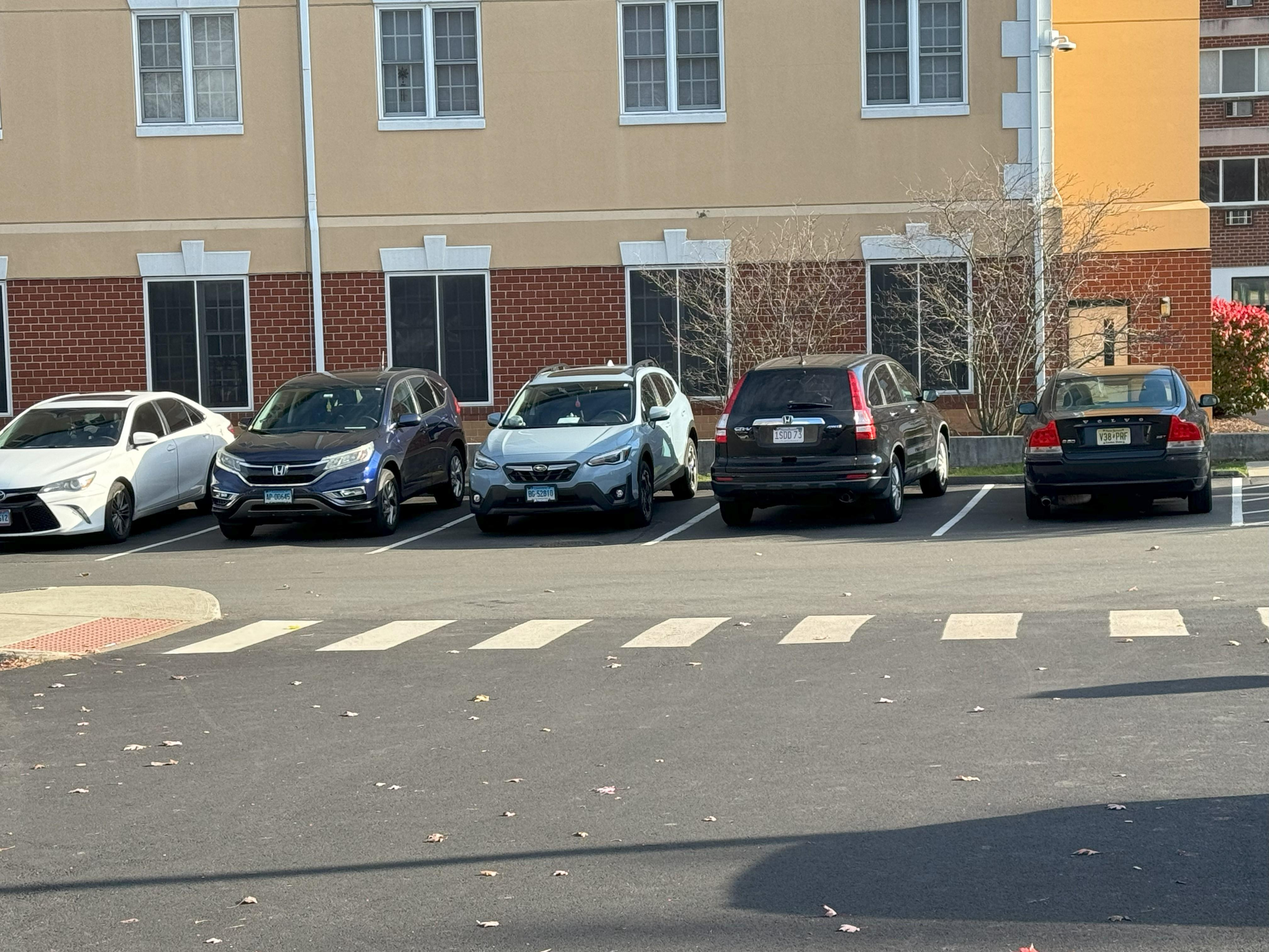occupied: (706, 337, 982, 572), (212, 366, 438, 559), (1005, 356, 1229, 541), (470, 360, 683, 549), (13, 369, 194, 569)
